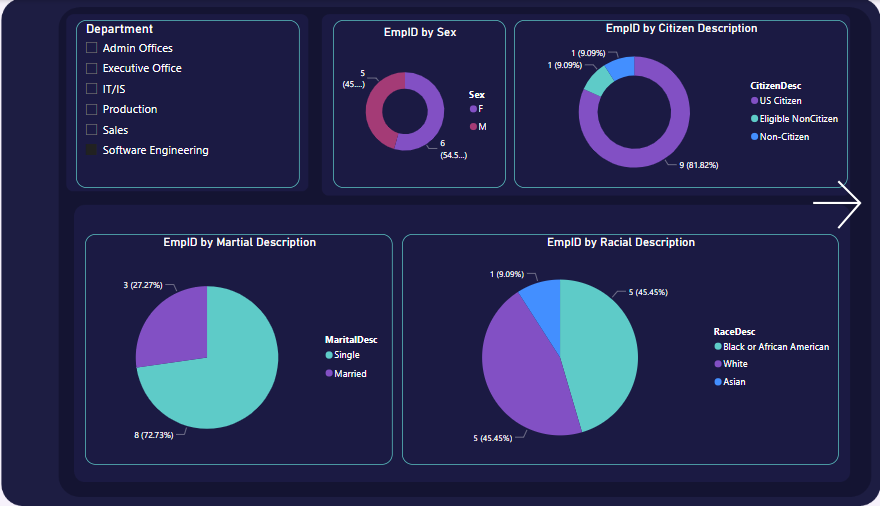

Layout of this report page (visuals, bound fields, positions):
{"tool":"powerbi","page":{"name":"Page 1","canvas":[1280,720],"ordinal":0},"visuals":[{"type":"donutChart","title":"EmpID by Sex","fields":{"Y":["CountNonNull(HRDataset.EmpID)"],"Category":["HRDataset.Sex"]},"box":[503.3,28.5,244.9,238.2],"z":0},{"type":"pieChart","title":"EmpID by Martial Description","fields":{"Y":["CountNonNull(HRDataset.EmpID)"],"Category":["HRDataset.MaritalDesc"]},"box":[151,332.2,436.2,327.1],"z":1000},{"type":"donutChart","title":"EmpID by Citizen Description","fields":{"Y":["CountNonNull(HRDataset.EmpID)"],"Category":["HRDataset.CitizenDesc"]},"box":[759.9,28.5,473.1,238.2],"z":2000},{"type":"pieChart","title":"EmpID by Racial Description","fields":{"Y":["CountNonNull(HRDataset.EmpID)"],"Category":["HRDataset.RaceDesc"]},"box":[600.6,332.2,619,327.1],"z":3000},{"type":"slicer","fields":{"Values":["HRDataset.Department"]},"box":[139.2,28.5,317.1,238.2],"z":4000},{"type":"actionButton","box":[1158,238.1,89.3,83.6],"z":4001}]}

Visuals, with their boxes in screenshot pixels (x1, y1, x2, y2), scaled from the page's 1280x720 canvas onto the 880x508 screenshot:
"EmpID by Sex" donutChart: (left=346, top=20, right=514, bottom=188)
"EmpID by Martial Description" pieChart: (left=104, top=234, right=404, bottom=465)
"EmpID by Citizen Description" donutChart: (left=522, top=20, right=848, bottom=188)
"EmpID by Racial Description" pieChart: (left=413, top=234, right=838, bottom=465)
slicer - HRDataset.Department: (left=96, top=20, right=314, bottom=188)
actionButton: (left=796, top=168, right=858, bottom=227)
